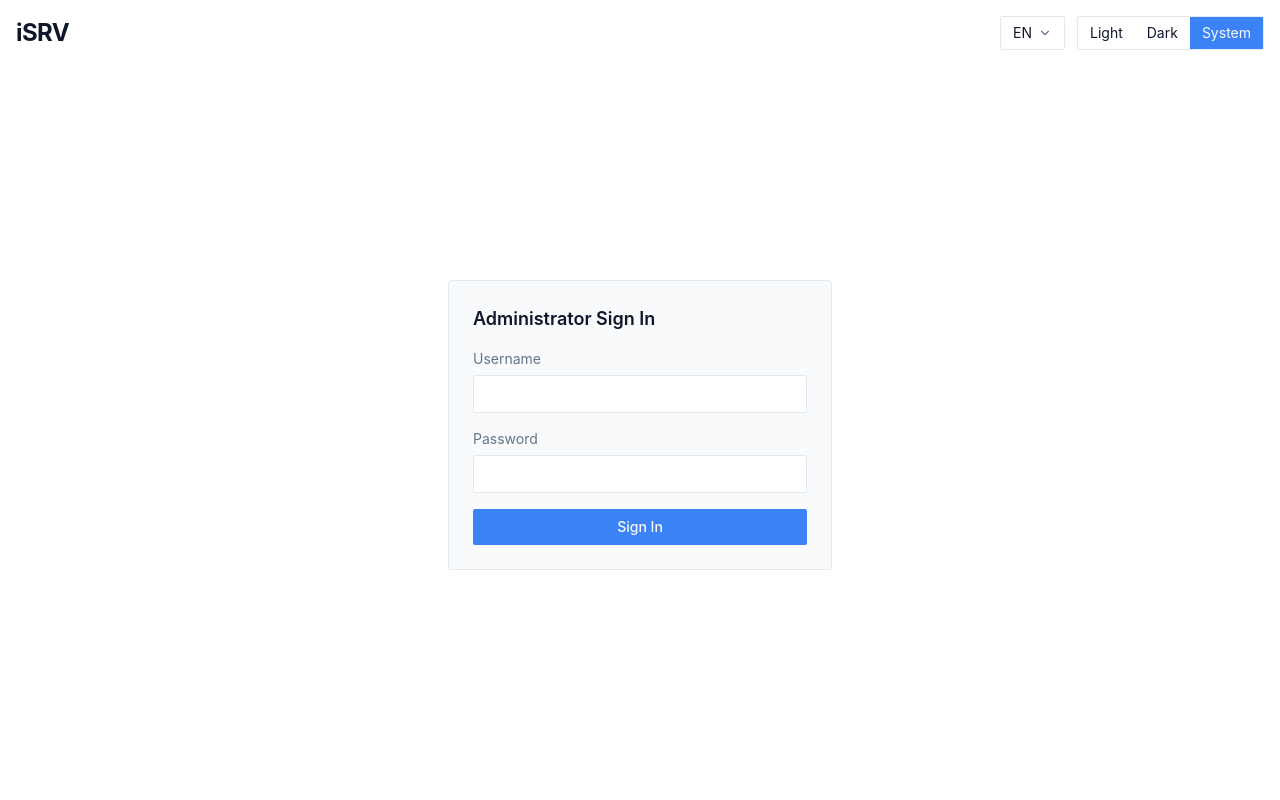
Test: admin login › shows an error for invalid credentials and stays on the form
Check: the heading "Administrator Sign In" is shown, box [473,308,655,329]
Step 1. Type "admin" into the field labelled "Username" → (640, 394), box [473,375,807,413]
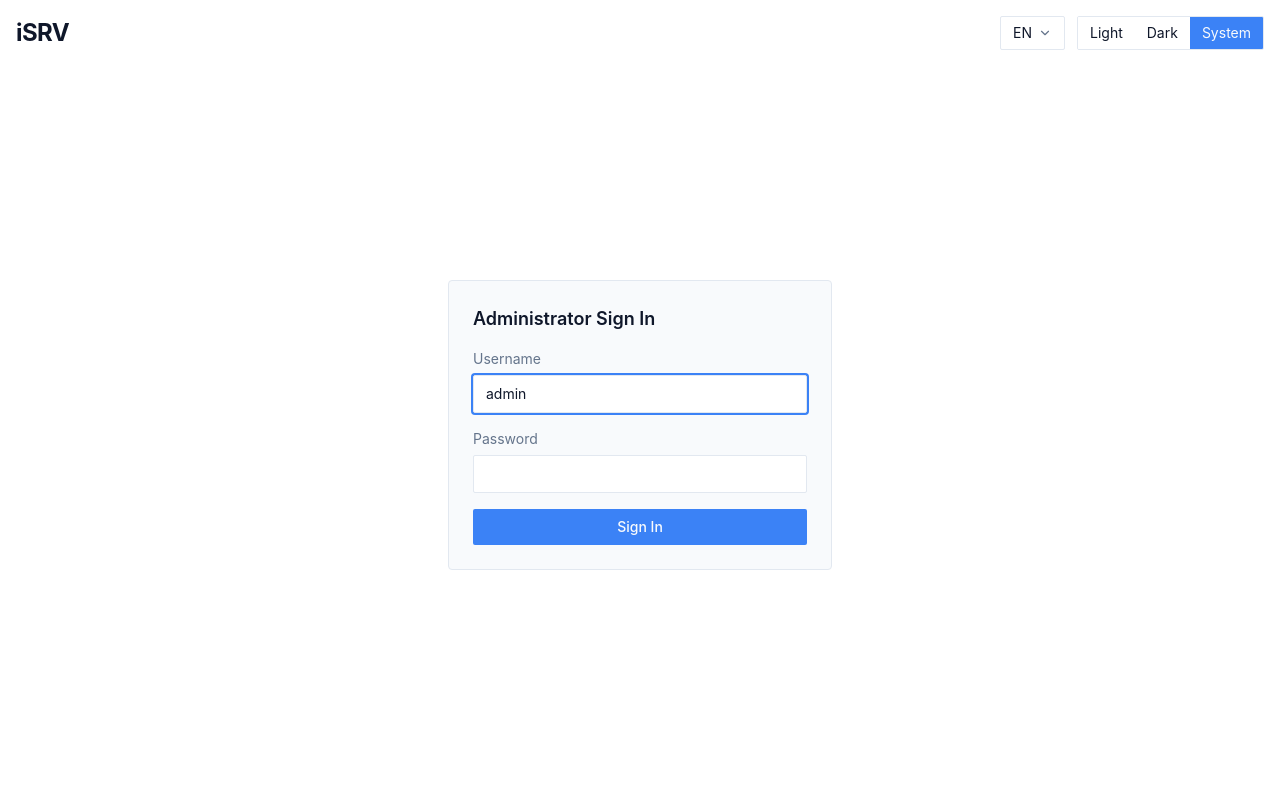
Step 2. Type "wrong-password" into the password field labelled "Password" → (640, 474), box [473,455,807,493]
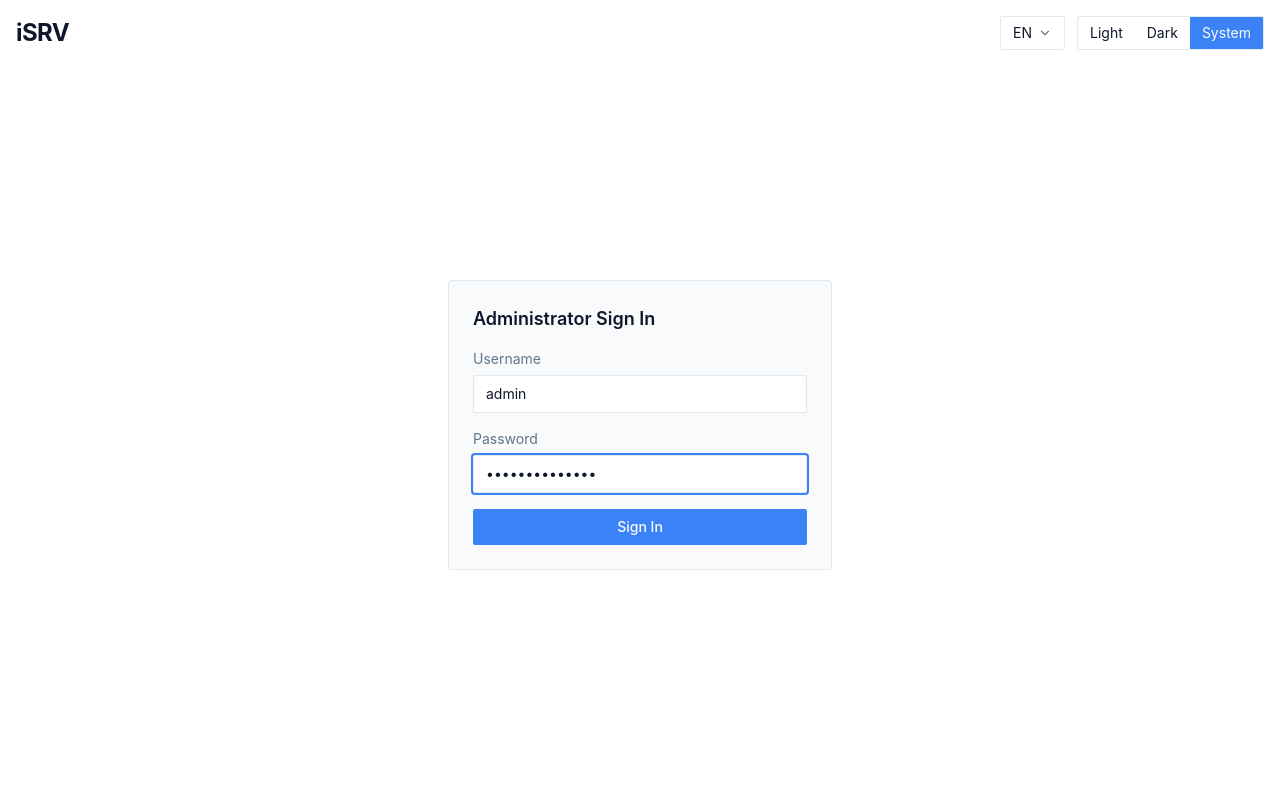
Step 3. Click the button "Sign In" → (640, 527), box [473,509,807,545]
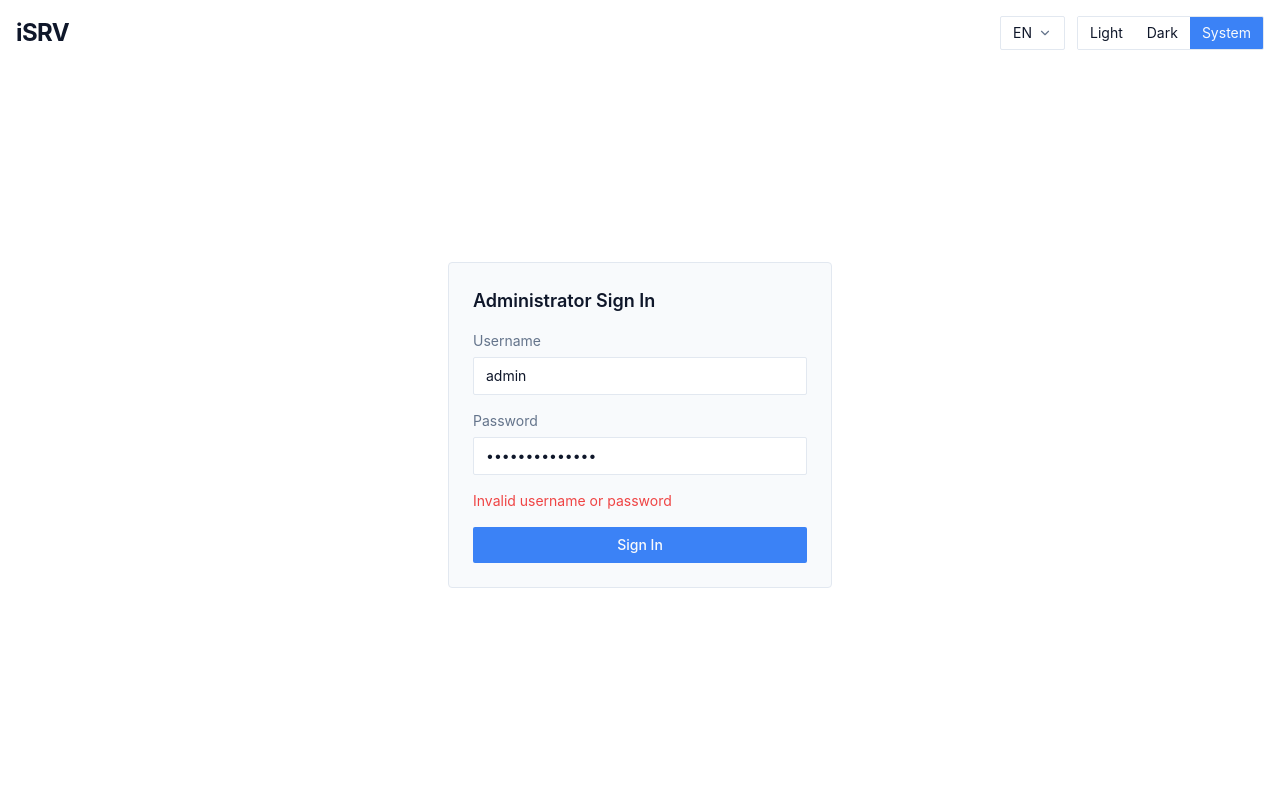
Check: the heading "Administrator Sign In" is shown, box [473,290,655,311]
Check: the text "Invalid username or password" is shown, box [473,492,672,509]
